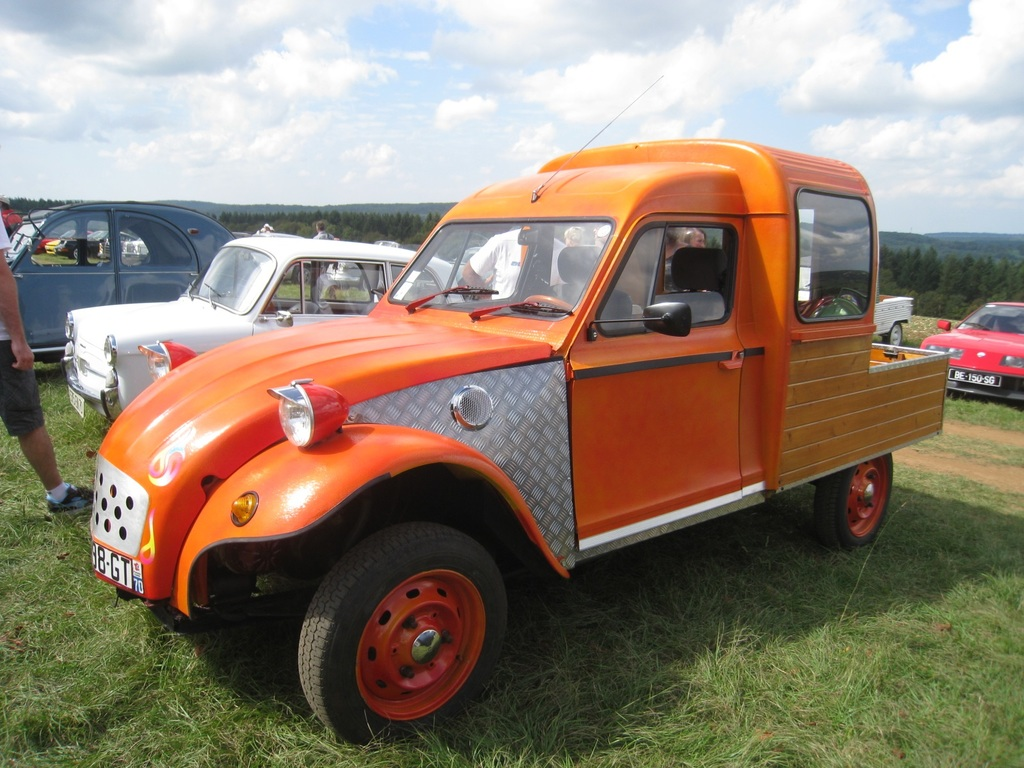person: (666, 227, 728, 294)
